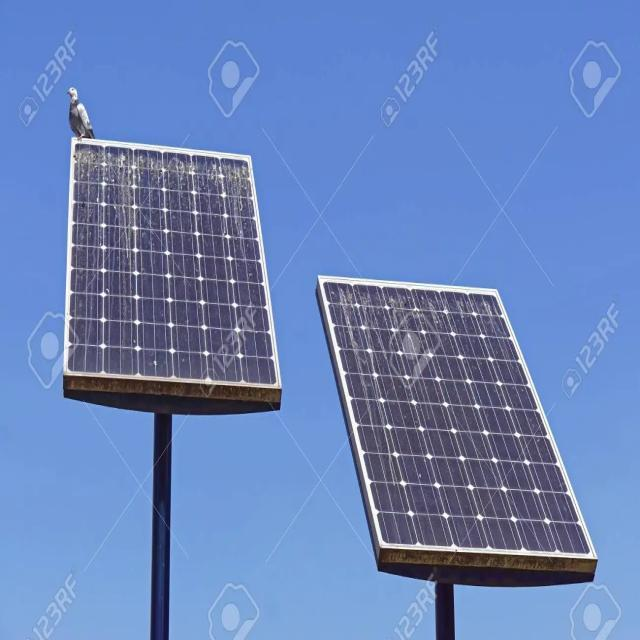Photovoltaic-Panel: (321, 285, 595, 557), (68, 142, 282, 385)
